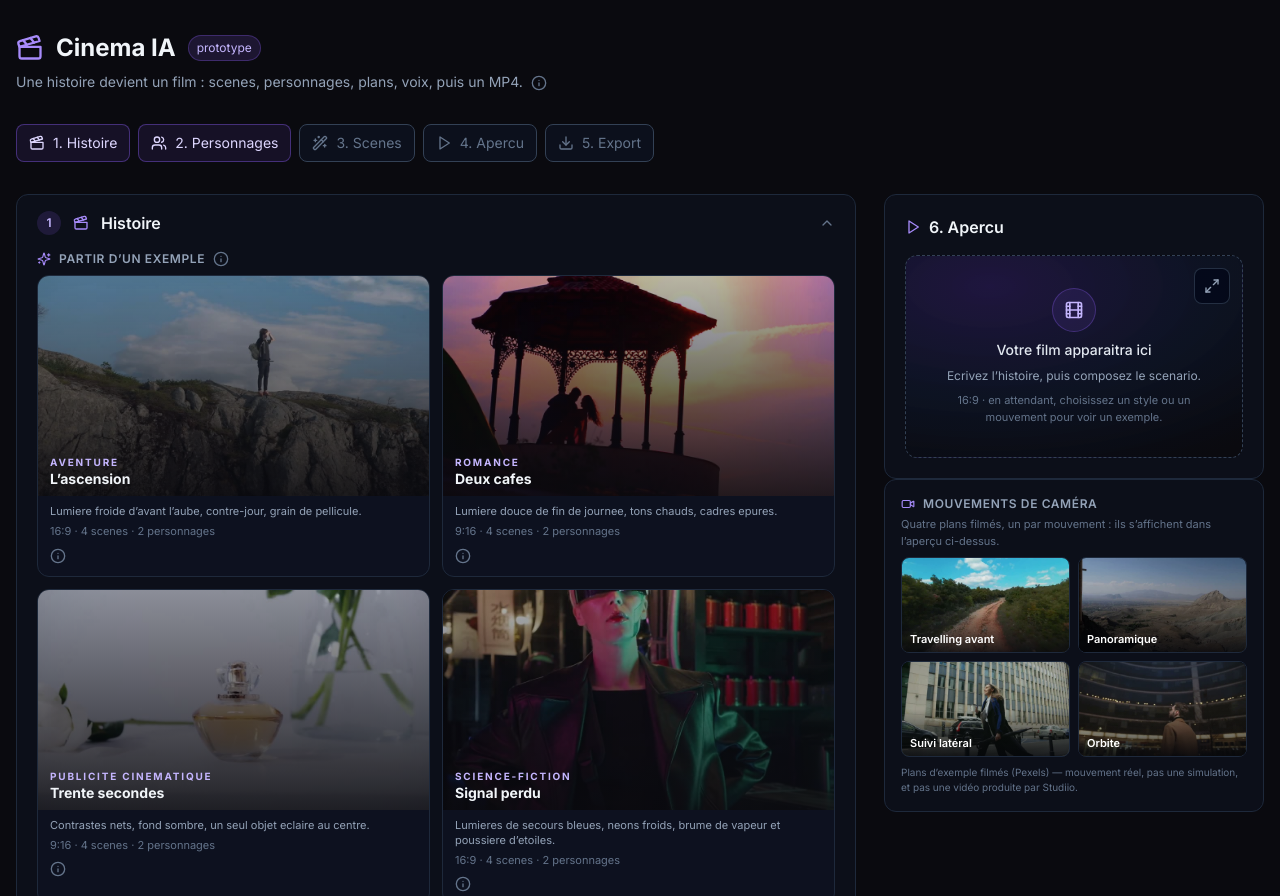
Test: un seul aperçu : les mouvements s’affichent dedans, sans scénario › un clic montre le plan dans l’APERÇU, pas dans un second lecteur — et aucun appel
expect the text "Partir d’un exemple" is shown: met, box [37,251,229,267]
Click the button "Orbite" at (1162,709), box [1078,661,1247,757]
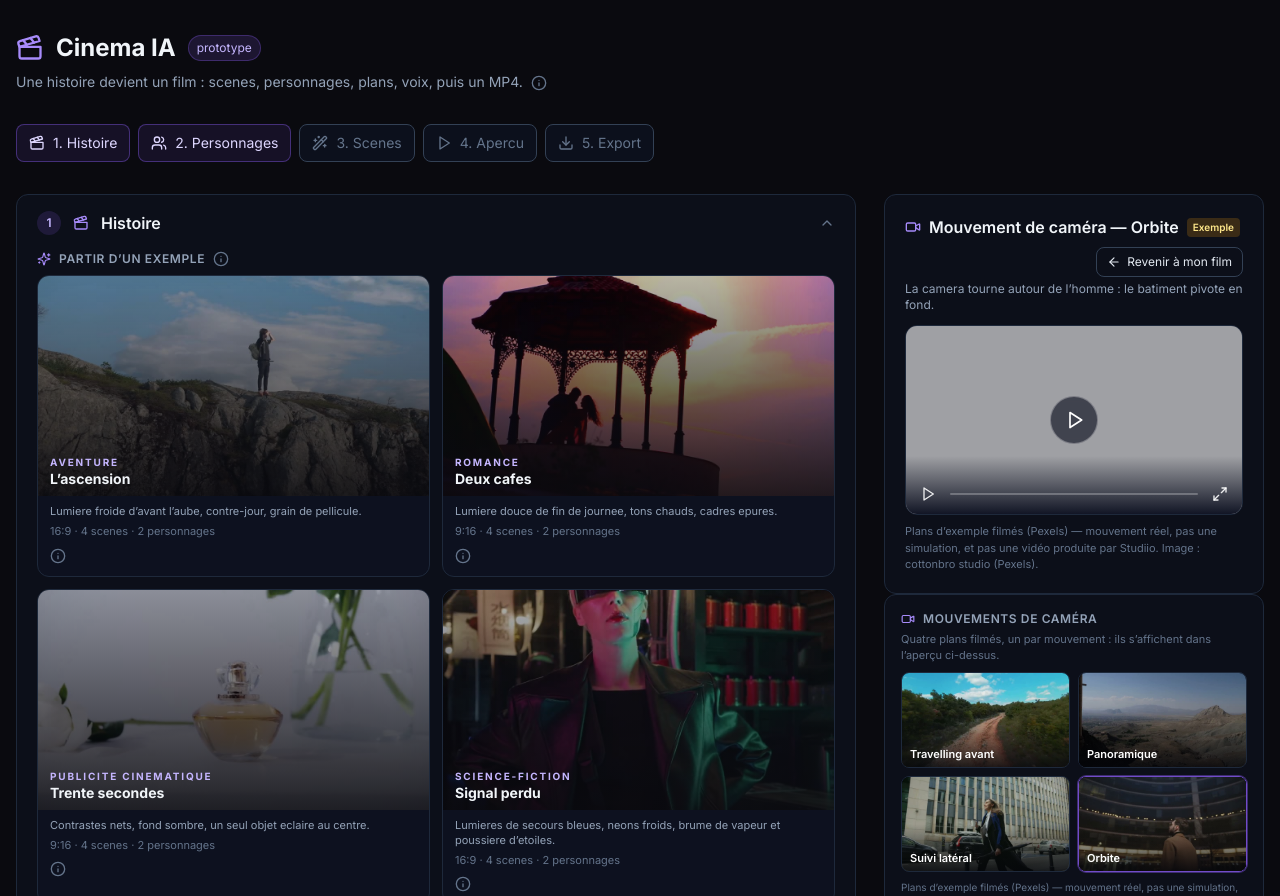
expect the element that starts with "Mouvement de caméra — Orbite" is shown: met, box [929,217,1179,237]
